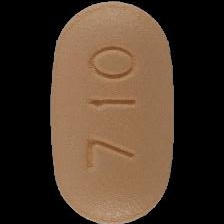43547-347: (0, 0, 224, 224)
